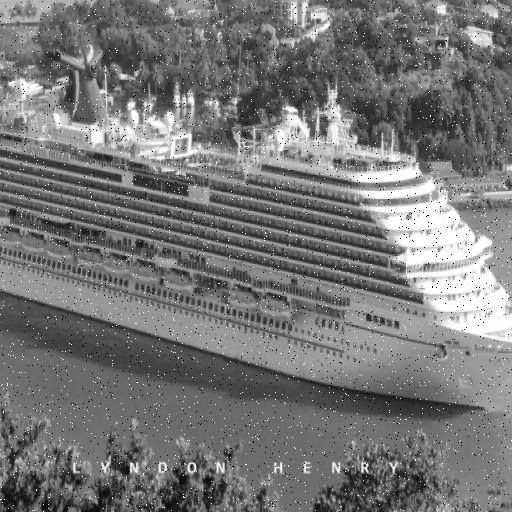cruises: (1, 37, 512, 427)
